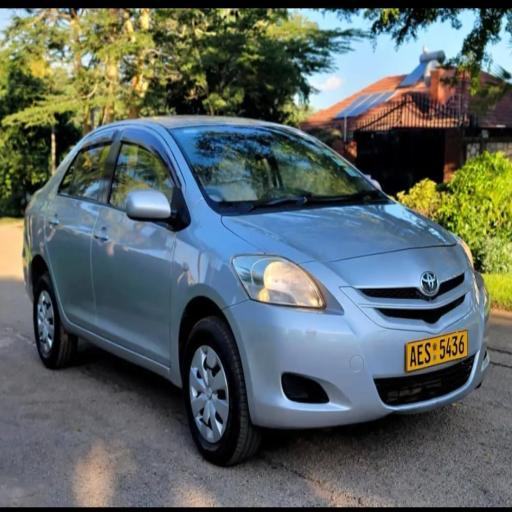number-plates: (407, 332, 467, 369)
